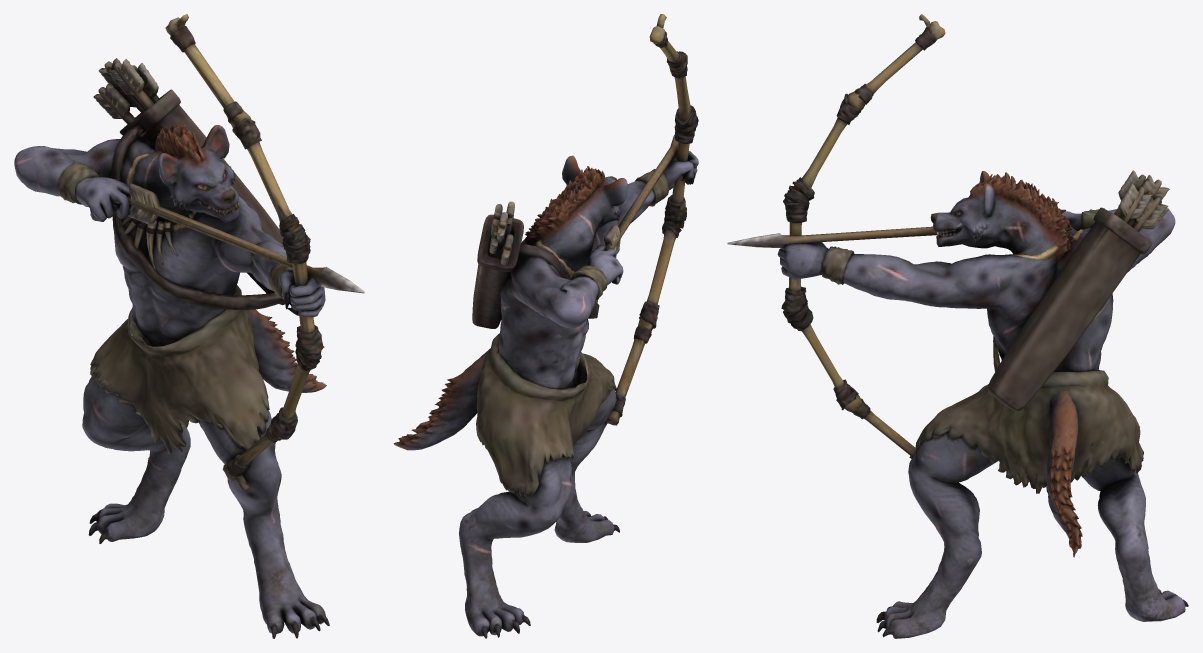
The model's file is MZ4250 - Gnoll Warrior 2025_ranged.glb.
3 views of the same model, side by side, from view 1: azimuth 30°, elevation 25°; view 2: azimuth 150°, elevation 25°; view 3: azimuth 270°, elevation 25° (orthographic). The views are drawn at different scales.
Parts seen in each view (by area): view 1: Body.001; view 2: Body.001; view 3: Body.001.
Boxes of the visible parts, box(x1,y1,x2,y2) form: Body.001: box(14, 14, 364, 638); Body.001: box(393, 14, 698, 638); Body.001: box(727, 14, 1188, 638).
Bounding box in the file's own units: 55.04 × 124 × 90.93.
Materials: 4 (4 with a texture image).
